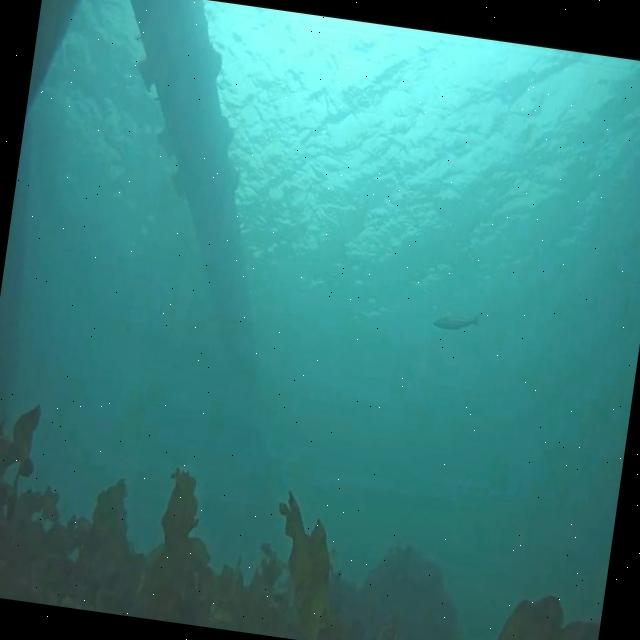fish: (431, 308, 481, 332)
